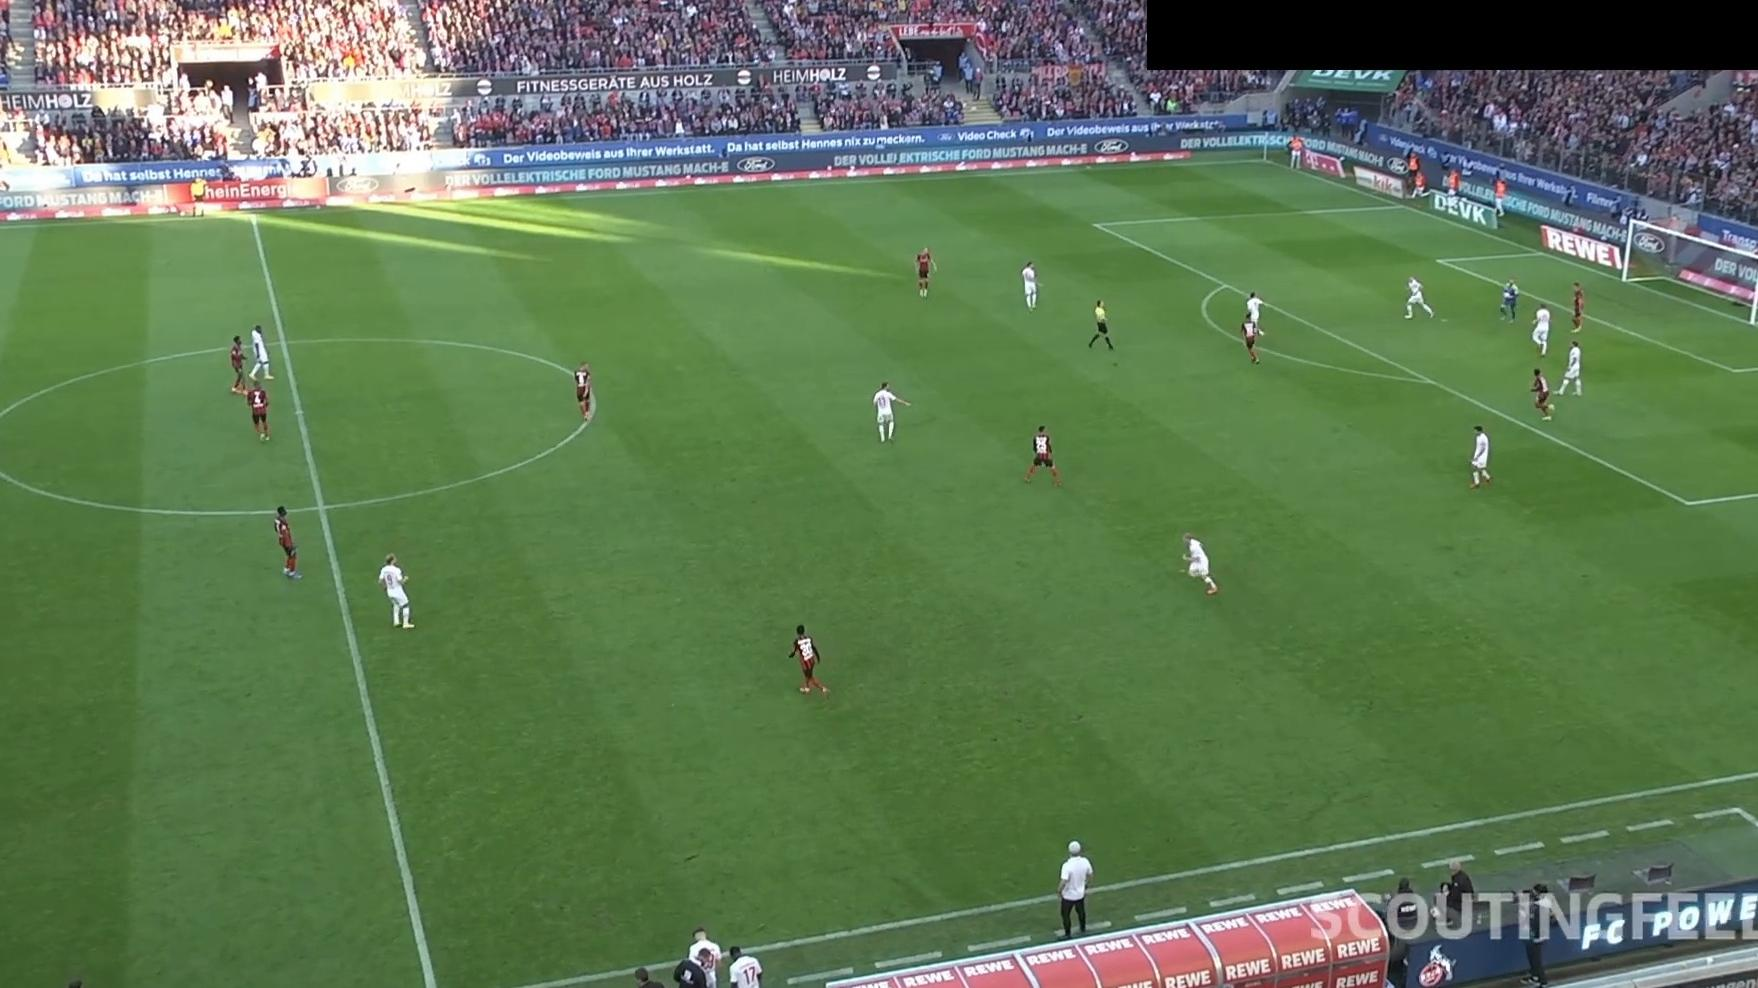ball: (1503, 291, 1510, 298)
